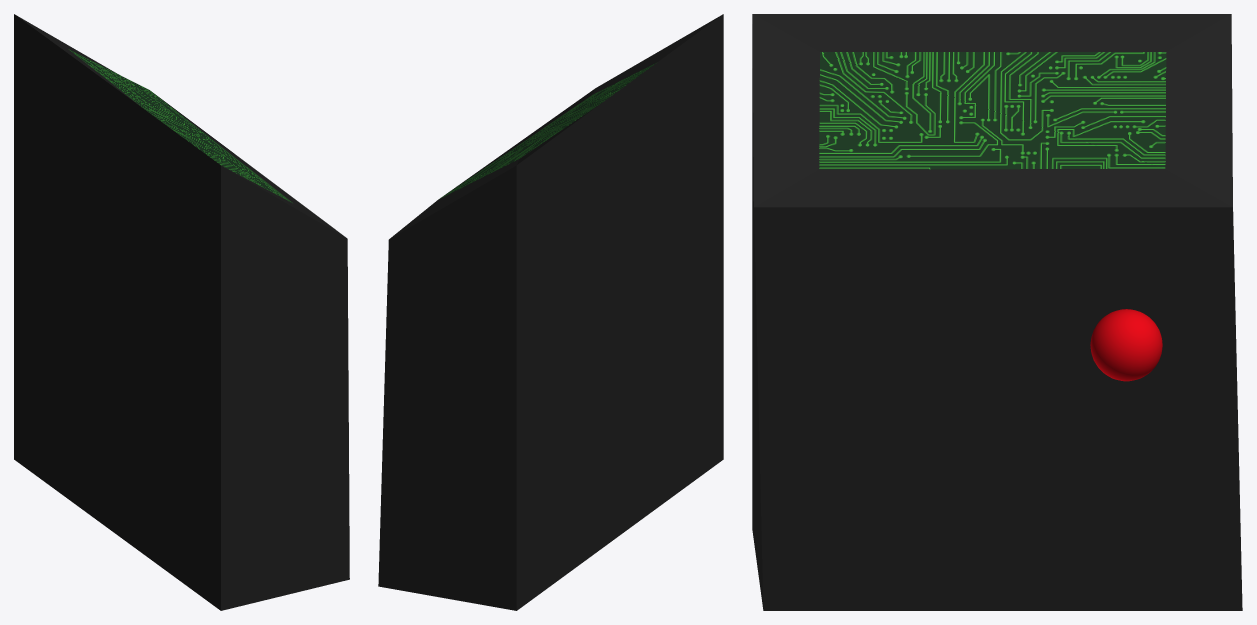
Rendered from PortalPanel.fbx.
3 views of the same model, side by side, from view 1: azimuth 30°, elevation 25°; view 2: azimuth 150°, elevation 25°; view 3: azimuth 270°, elevation 25° (orthographic). The views are drawn at different scales.
Parts seen in each view (by area): view 1: Cube; view 2: Cube; view 3: Cube, Button.
Boxes of the visible parts, bbox=[...] form: Cube: bbox=[14, 14, 349, 610]; Cube: bbox=[378, 14, 723, 610]; Cube: bbox=[752, 14, 1242, 610]; Button: bbox=[1090, 309, 1162, 381].
Bounding box in the file's own units: 1.2 × 3.11 × 2.65.
